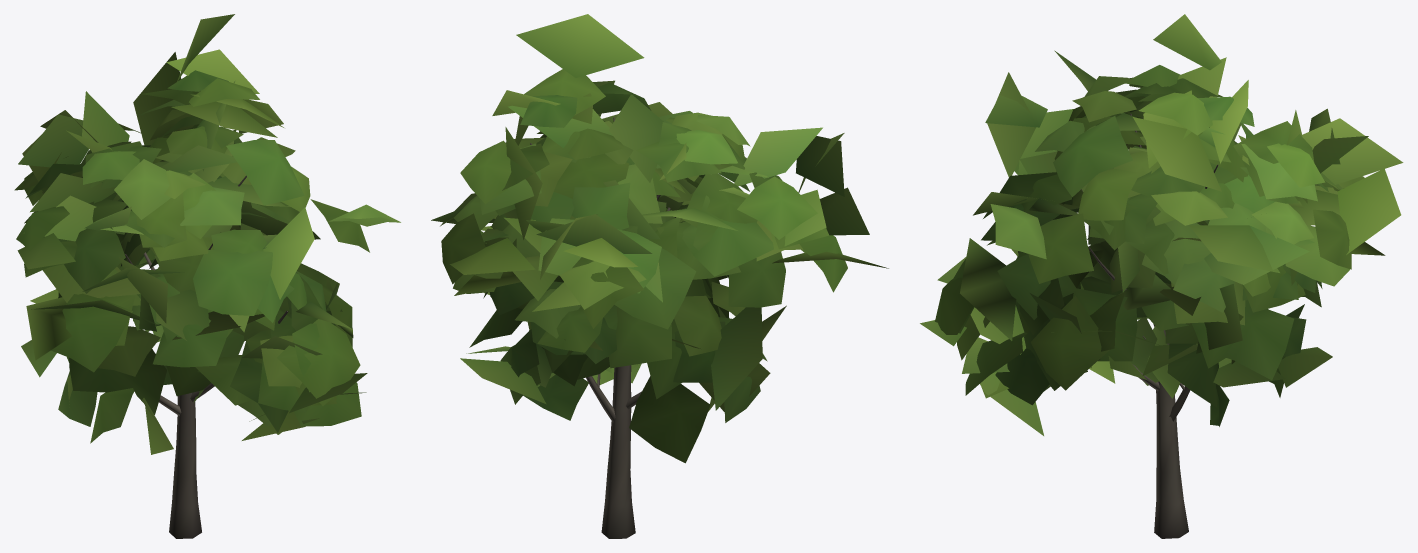
Rendered from lime-a.lod1.glb.
The picture shows the model from 3 angles, left to right: view 1: azimuth 30°, elevation 25°; view 2: azimuth 150°, elevation 25°; view 3: azimuth 270°, elevation 25°; orthographic projection. The views are drawn at different scales.
Size of the model in its own units: 10.3 by 14.54 by 12.03.
